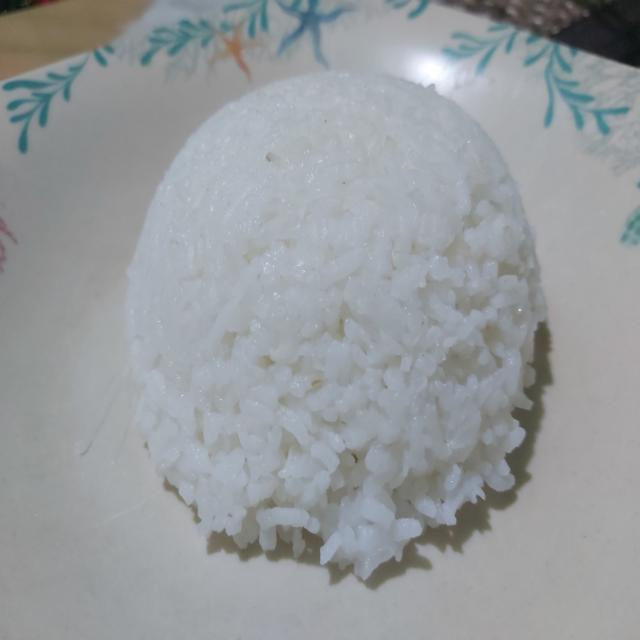Chicken -Chicken Inasal-: (111, 54, 558, 608)
